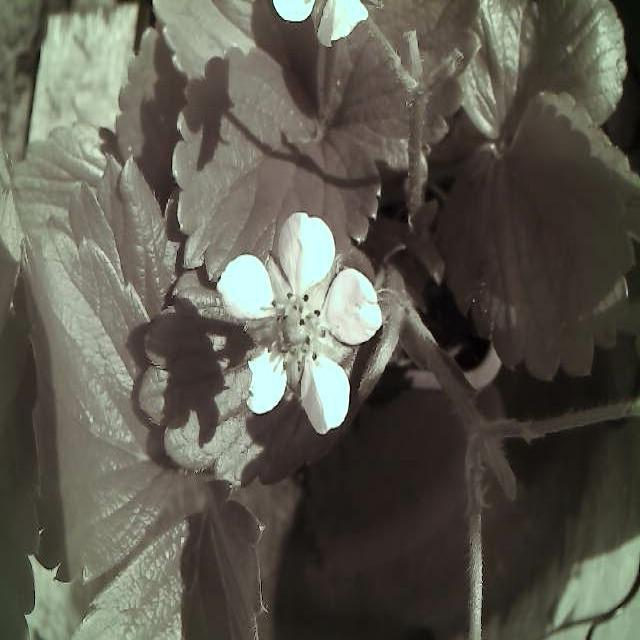flower: (216, 210, 390, 439)
